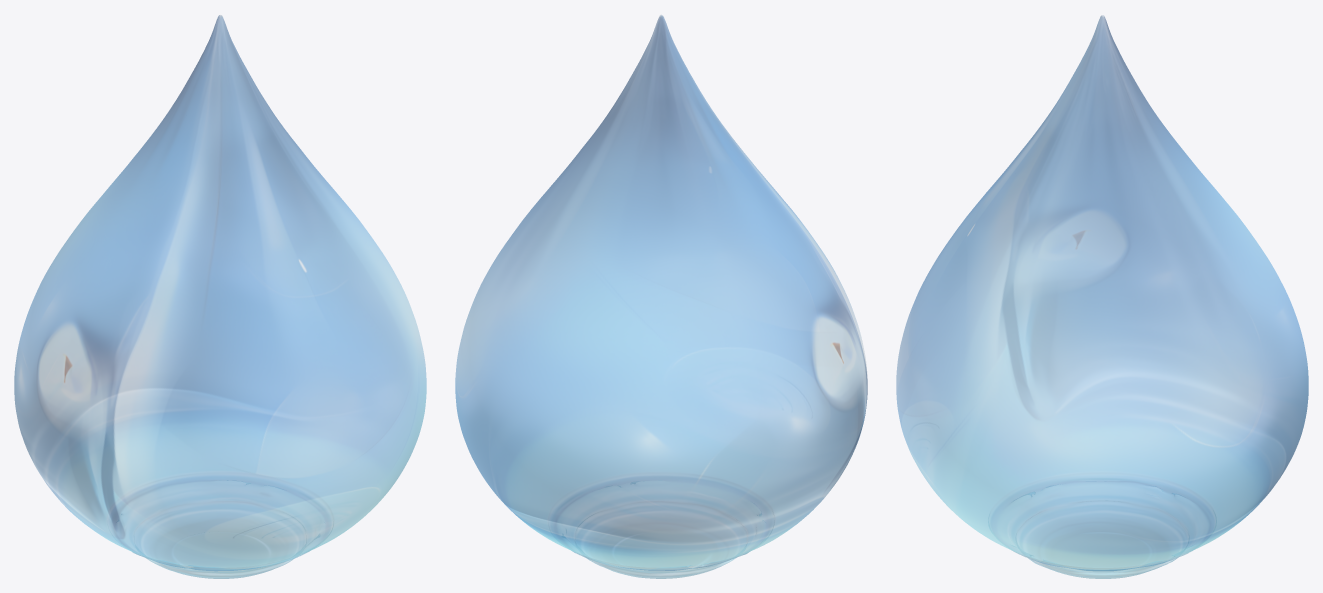
The model's file is water_droplet.glb.
3 renders of one model, left to right at view 1: azimuth 30°, elevation 25°; view 2: azimuth 150°, elevation 25°; view 3: azimuth 270°, elevation 25°, orthographic.
Visible parts, largest first — view 1: model_0; view 2: model_0; view 3: model_0.
Boxes of the visible parts, x1,y1,x2,y2 form: model_0: (14,15,426,578); model_0: (455,14,867,578); model_0: (896,15,1308,578).
Bounding box in the file's own units: 1.32 × 1.9 × 1.32.
1 material, 1 textured.
